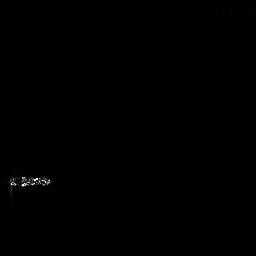ship: (6, 175, 54, 197)
